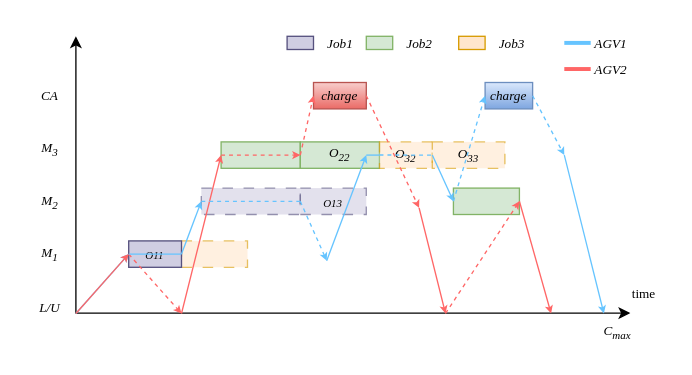
This 692x375 diagram has some shape labels left out. The centre of each missing label's shape, as x and y in pixels:
"O 12" goes at (250,200).
"O 21" goes at (260,154).
"O 23" goes at (485,200).
"O 31" goes at (214,253).
